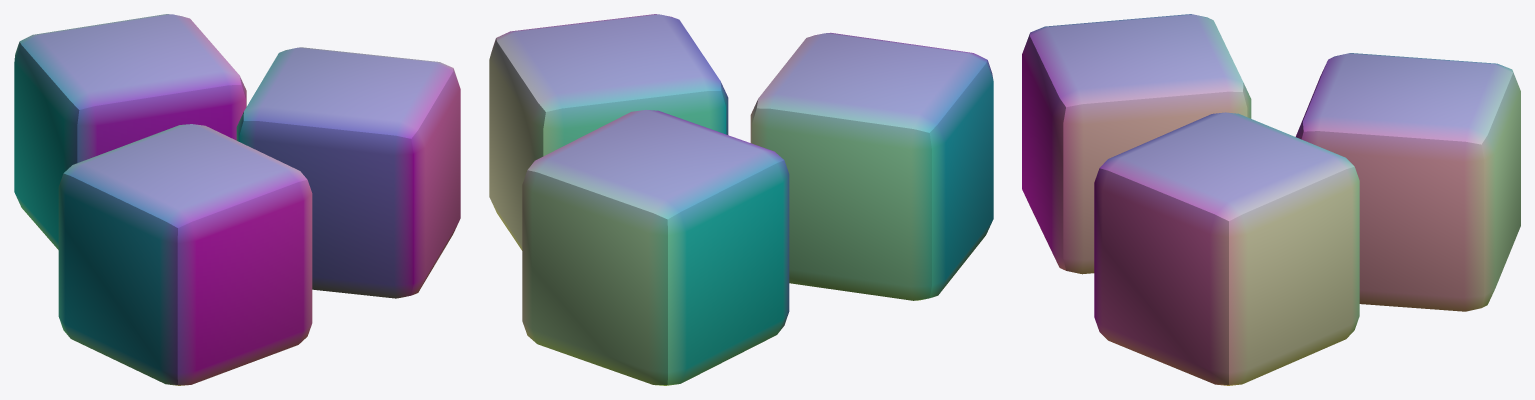
The model's file is env_deco_sugar.glb.
The picture shows the model from 3 angles, left to right: view 1: azimuth 30°, elevation 25°; view 2: azimuth 150°, elevation 25°; view 3: azimuth 270°, elevation 25°; orthographic projection. The views are drawn at different scales.
Parts seen in each view (by area): view 1: env_deco_sugar_mesh; view 2: env_deco_sugar_mesh; view 3: env_deco_sugar_mesh.
Part boxes in pixels (left/top/right/bottom): env_deco_sugar_mesh: left=14, top=14, right=460, bottom=385; env_deco_sugar_mesh: left=489, top=14, right=993, bottom=385; env_deco_sugar_mesh: left=1022, top=14, right=1520, bottom=385.
Bounding box in the file's own units: 0.2193 × 0.09 × 0.2206.
